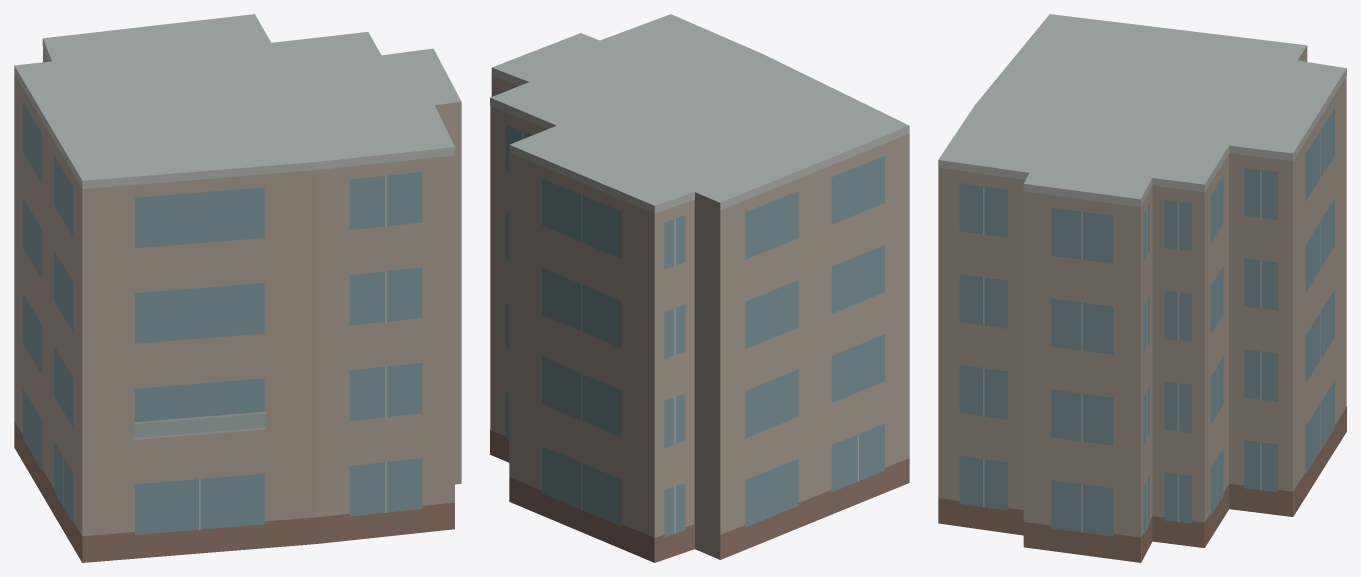
The model's file is survey-upis-32674446.glb.
3 views of the same model, side by side, from view 1: azimuth 30°, elevation 25°; view 2: azimuth 150°, elevation 25°; view 3: azimuth 270°, elevation 25° (orthographic). The views are drawn at different scales.
Parts seen in each view (by area): view 1: survey-upis-32674446.tmp; view 2: survey-upis-32674446.tmp; view 3: survey-upis-32674446.tmp.
Boxes of the visible parts, x1,y1,x2,y2 form: survey-upis-32674446.tmp: (14, 14, 461, 562); survey-upis-32674446.tmp: (490, 14, 909, 562); survey-upis-32674446.tmp: (938, 14, 1346, 562).
Size of the model in its own units: 12.53 by 11.45 by 11.67.
